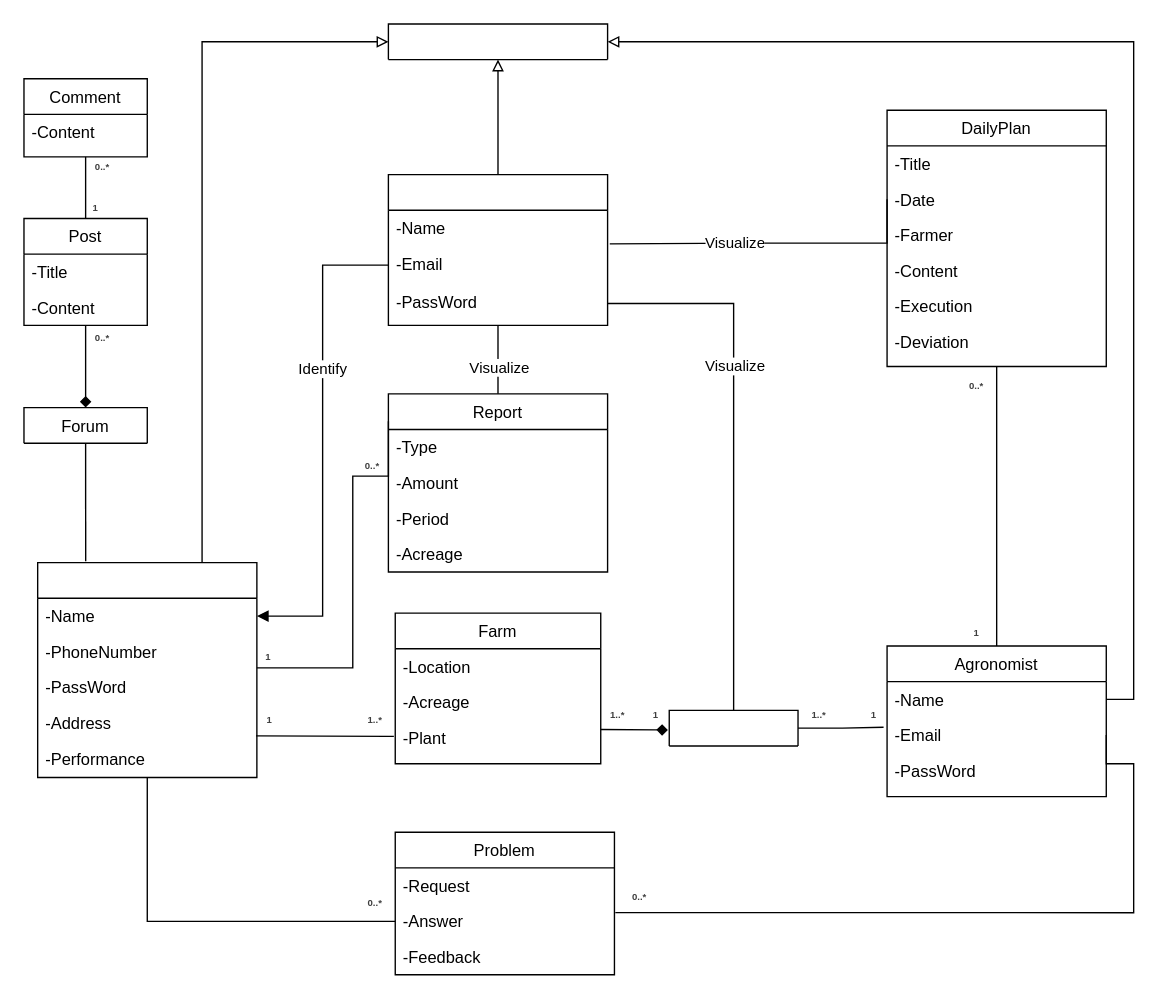
Image size: 1169x1003. Some labels were removed from this diagram. The shapes that lost their labels are listed below. From the top down, each one's box as (x1, y1, x2, y2) in pixels, then its label:
(387, 23, 608, 60): User
(387, 173, 608, 325): PolicyMaker
(36, 561, 257, 777): Farmer
(668, 709, 798, 746): Area
